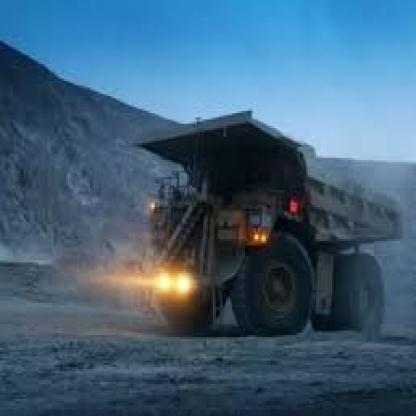dump_truck: (118, 96, 403, 343)
